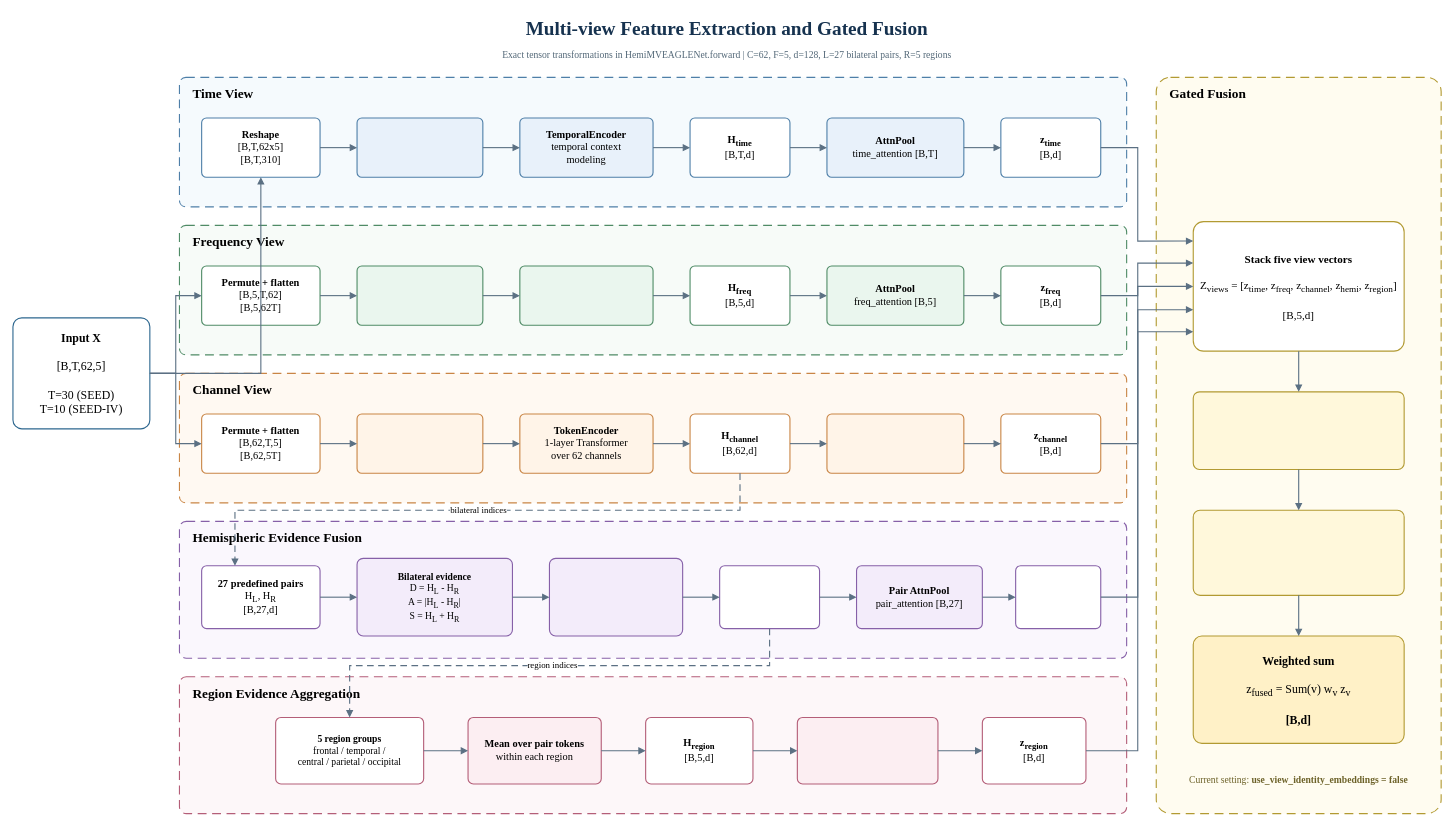
Image size: 1455x827. Some labels were removed from this diagram. Here are the shapes that lost their labels. From the top down, the centre of each, then its label:
[419,147]: Time embedding Linear(310,d) LayerNorm
[419,295]: Frequency embedding Linear(62T,d) LayerNorm
[586,295]: TokenEncoder 1-layer Transformer over 5 bands
[419,443]: Channel embedding Linear(5T,d) LayerNorm
[895,443]: AttnPool channel_attention [B,62]
[1298,430]: View gate Linear(d,1) applied per view view_logits [B,5]
[1298,552]: Softmax over views view_weights [B,5] interpretable contribution scores
[616,596]: Concat(D,A,S) [B,27,3d] Linear(3d,d) LN + GELU
[769,597]: H hemi [B,27,d]
[1058,597]: z hemi [B,d]
[867,750]: Region AttnPool region_attention [B,5]
